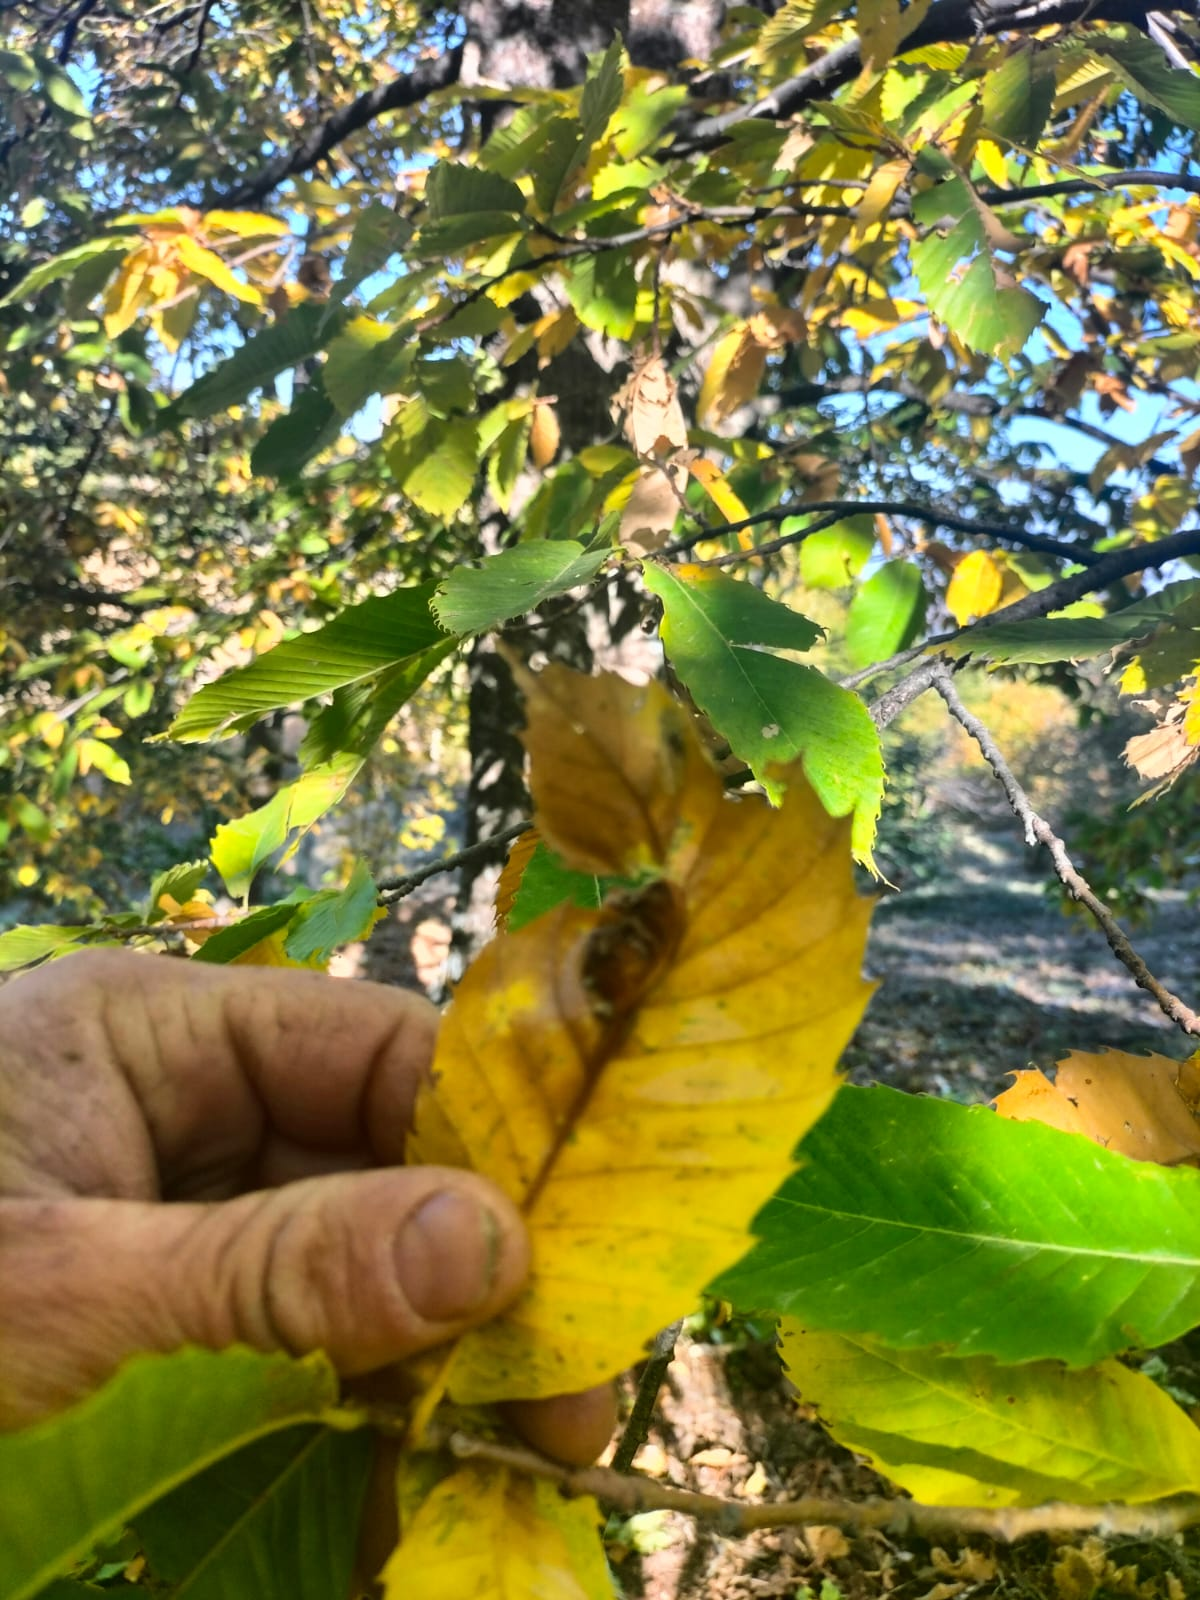galarisi: (561, 806, 729, 1036)
